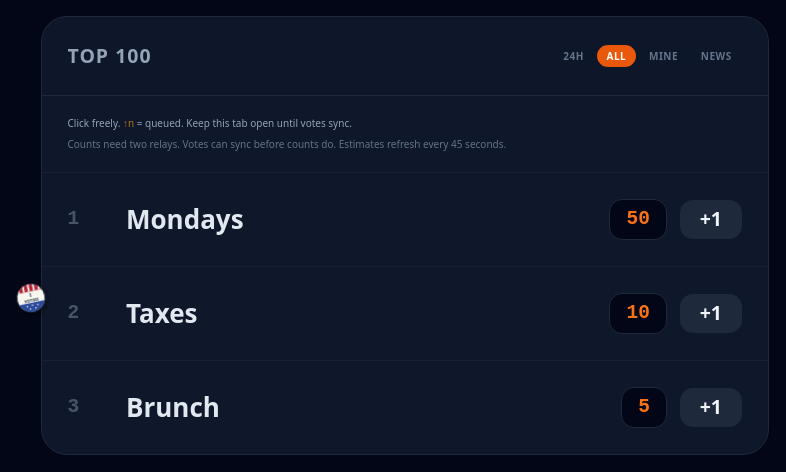
Test: Blameboard › shows only your topics under Mine
Click the button "Mine".
click(664, 56)  # box left=639, top=45, right=688, bottom=67
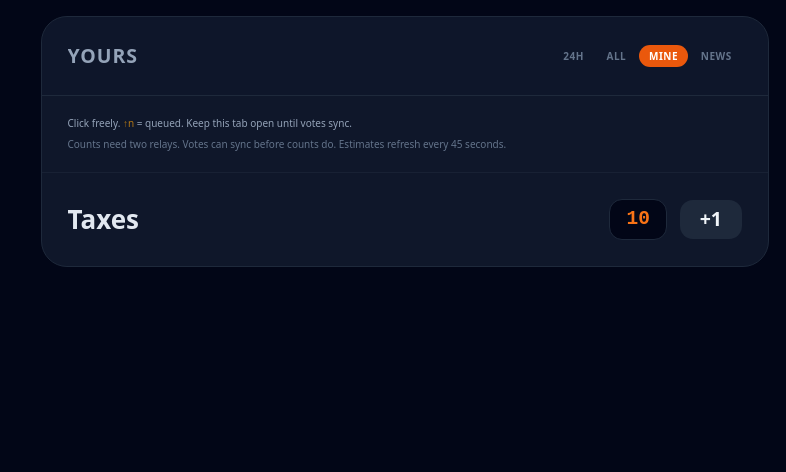
Expected: the text "Taxes" is shown, left=68, top=200, right=139, bottom=238
Expected: the text "Mondays" is gone
Expected: the text "Brunch" is gone
